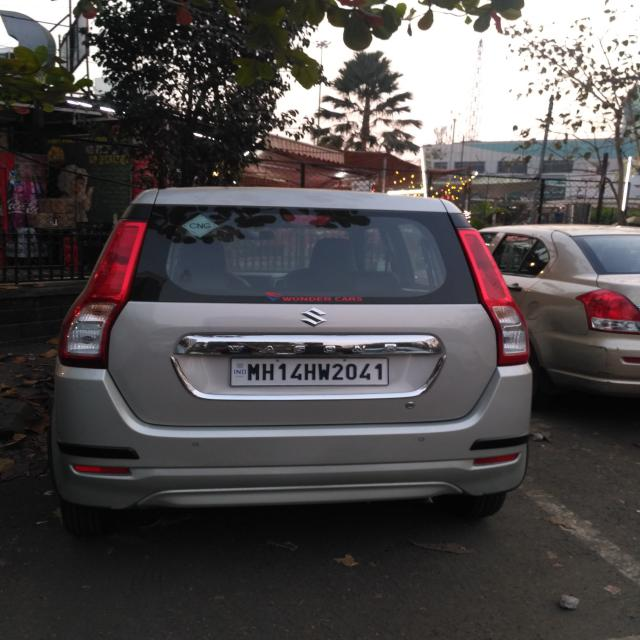Number-Plate: (234, 355, 390, 389)
